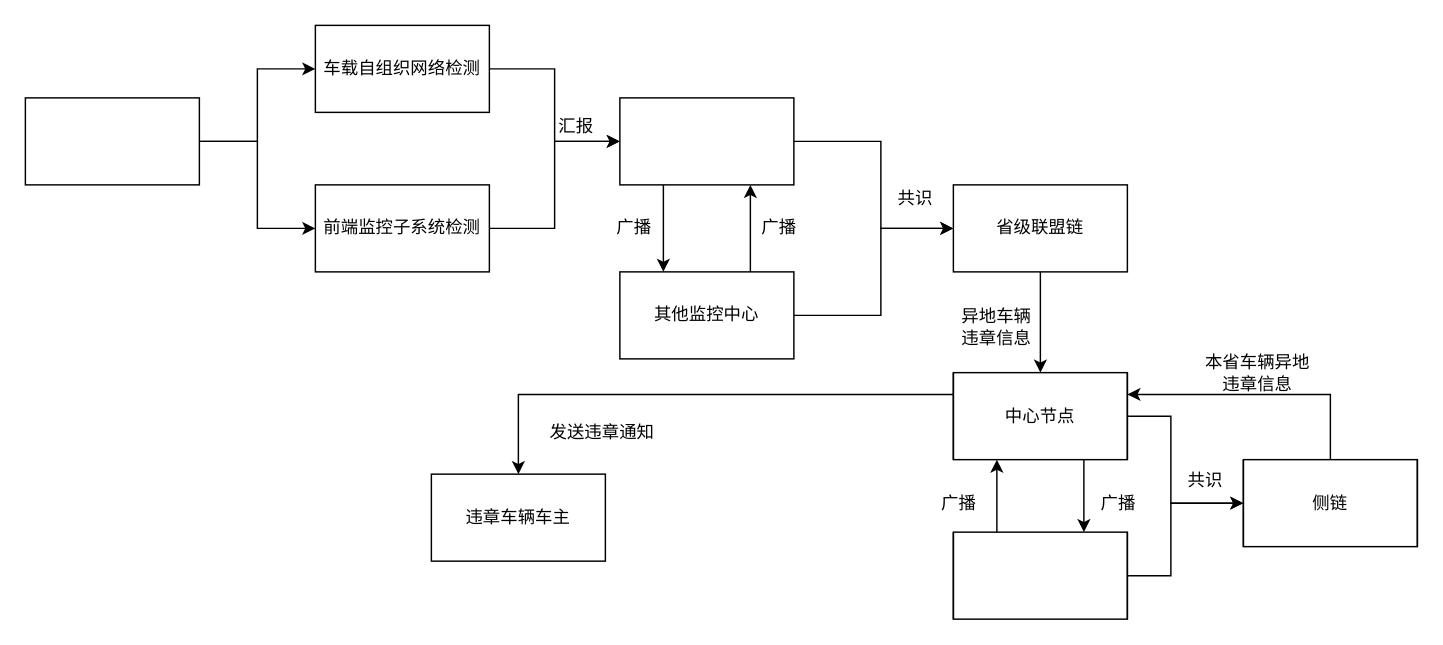
Image size: 1443x645. Some labels were removed from this diagram. Each missing label, with the centre of its shape:
其他省中心节点: (x=1039, y=575)
监控中心: (x=706, y=140)
违章事件: (x=111, y=140)
